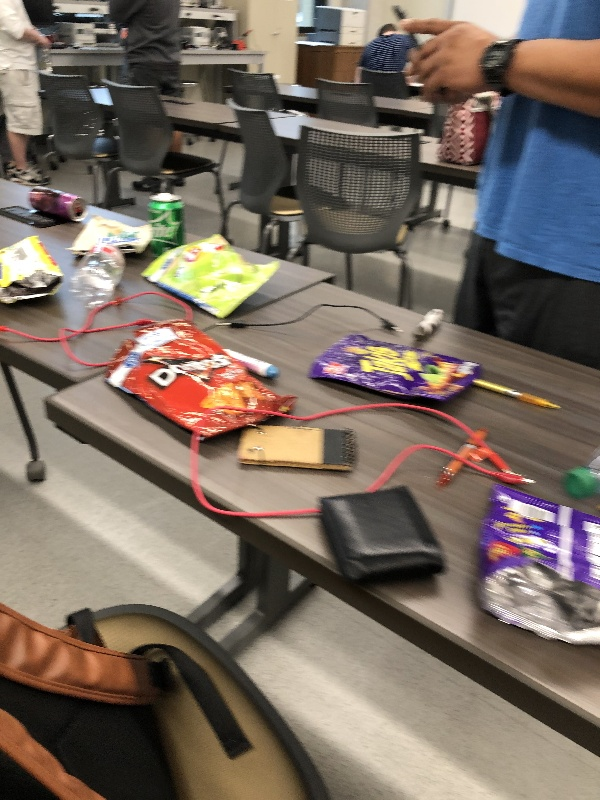bag: (100, 316, 305, 444), (473, 482, 600, 651), (305, 328, 484, 417), (134, 232, 286, 323), (1, 232, 71, 312), (62, 211, 154, 262)
bottle: (66, 239, 130, 308), (560, 446, 600, 499)
can: (24, 180, 91, 225), (147, 192, 186, 254)
